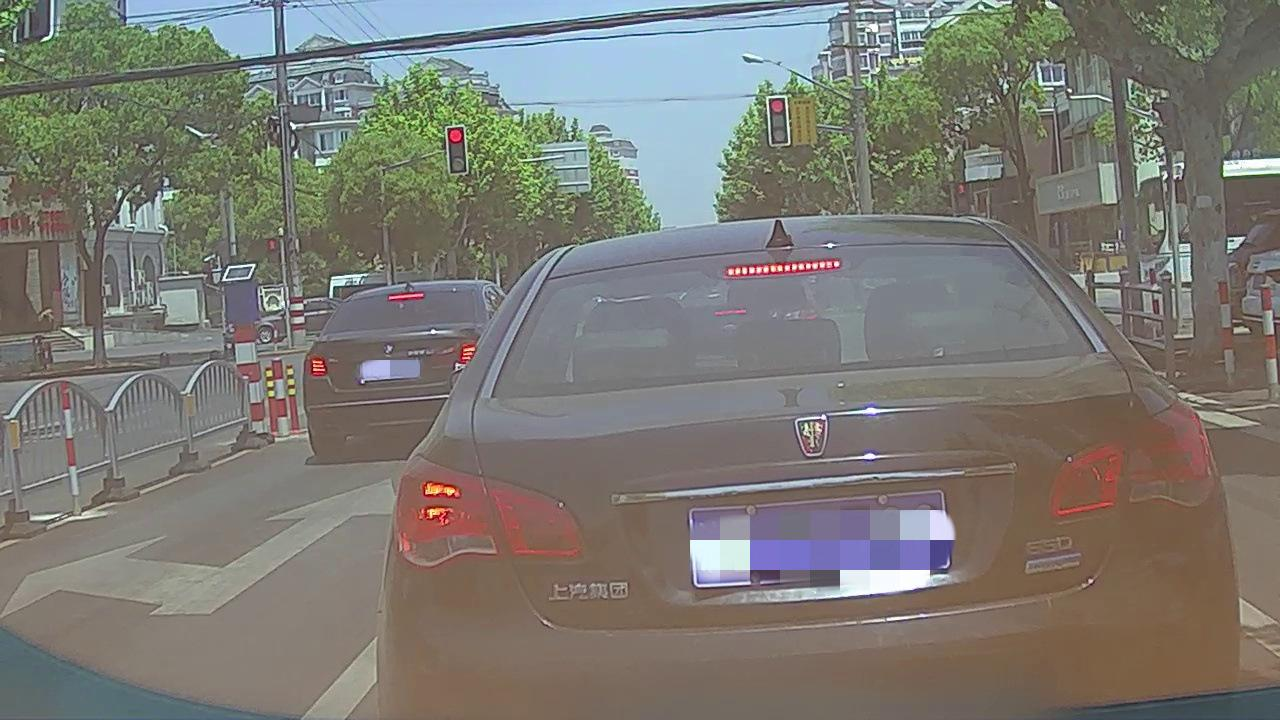traffic_light: (769, 97, 790, 144), (448, 127, 467, 173)
